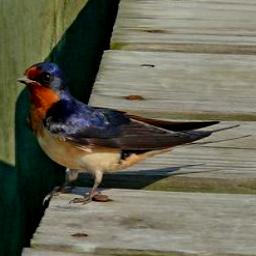Swallow: (16, 61, 217, 206)
